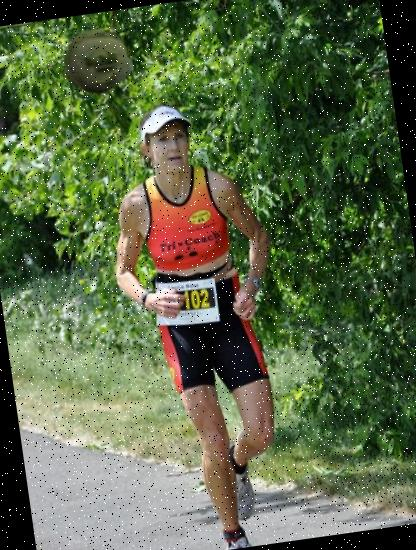Kohlrabi: (60, 22, 138, 100)
